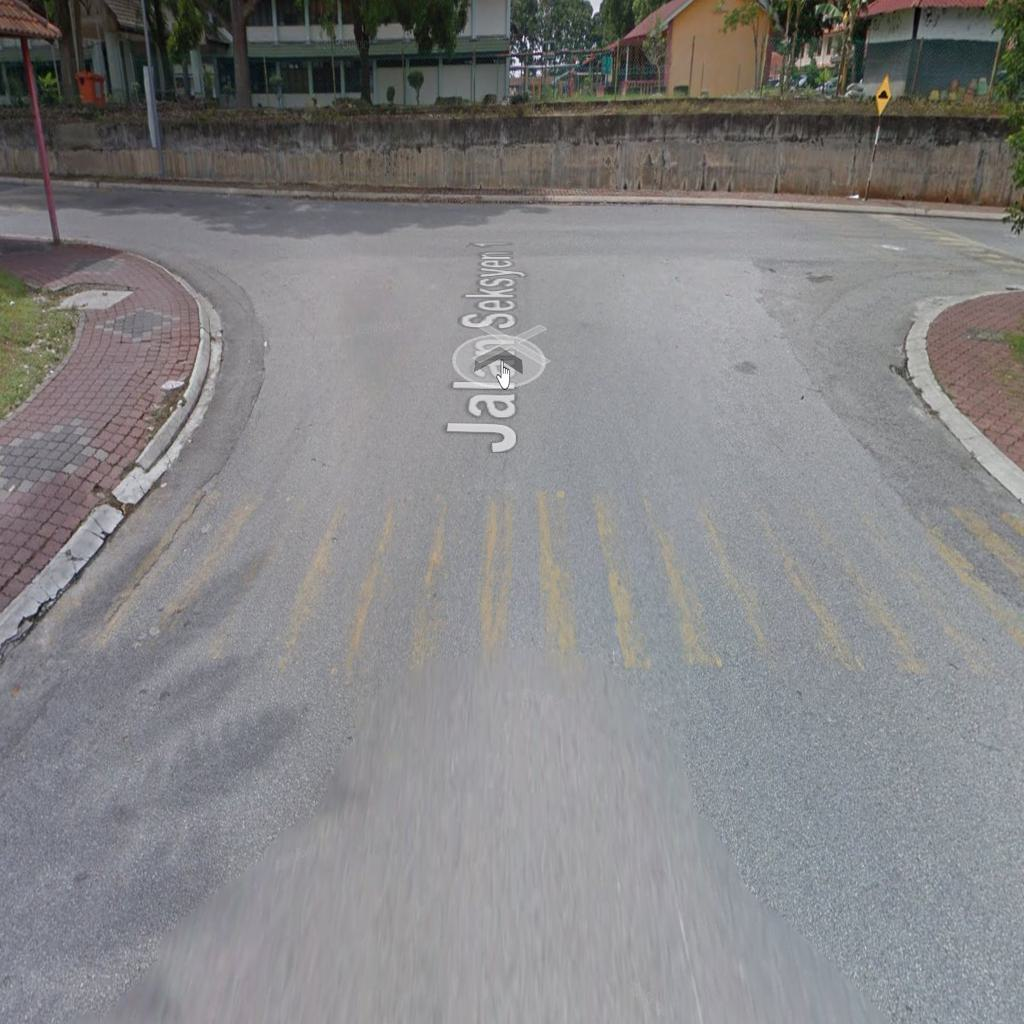Junction: (1, 127, 378, 466), (747, 150, 1024, 483)
